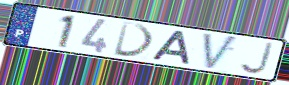1: (56, 14, 78, 49)
4: (79, 17, 110, 55)
A: (150, 30, 193, 66)
D: (112, 21, 157, 59)
J: (237, 41, 275, 76)
V: (202, 32, 241, 72)
